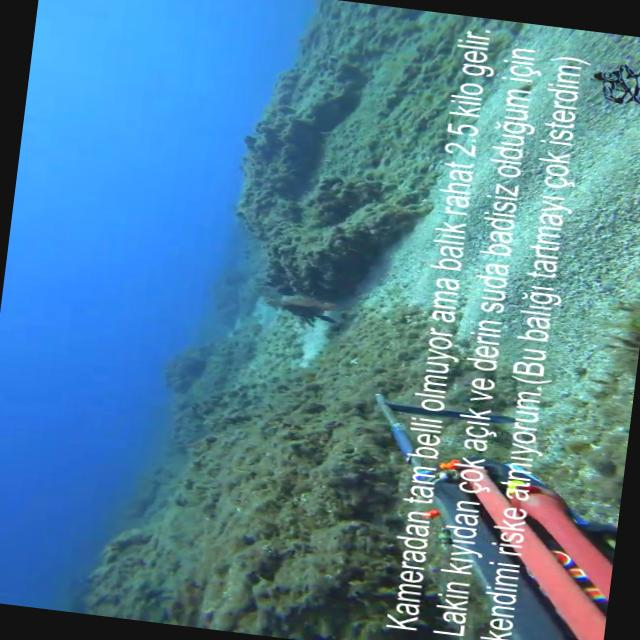Aslan Baligi: (251, 280, 352, 336)
